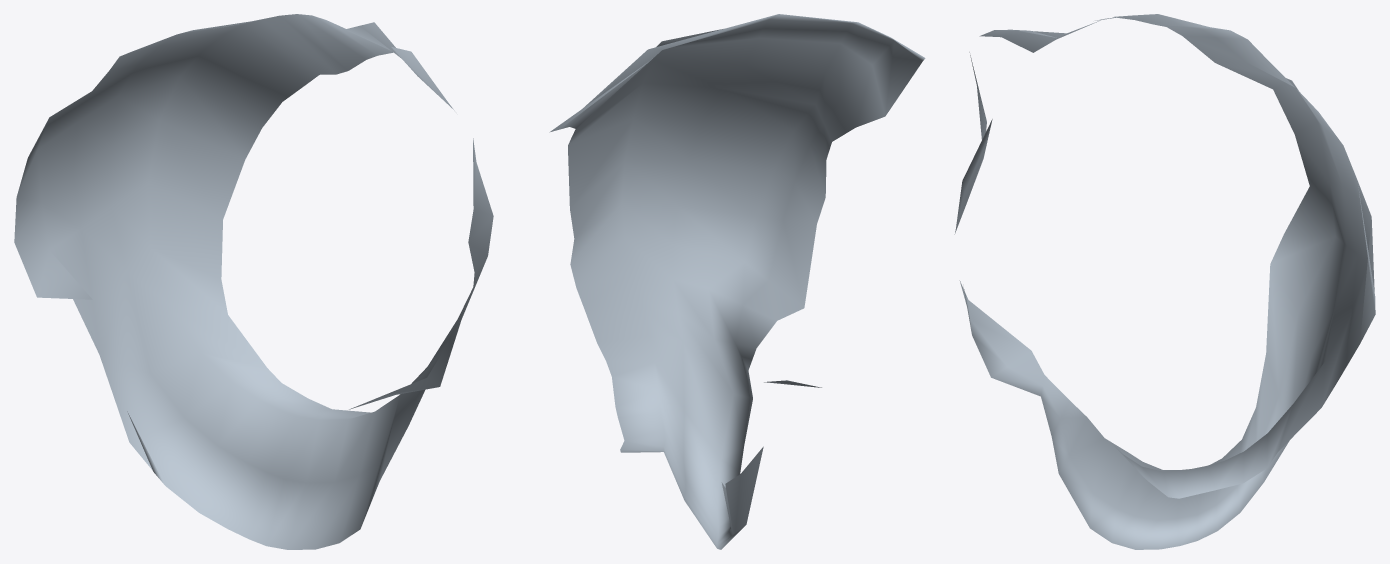
The model's file is articular-capsule-of-glenohumeral-joint-r.glb.
3 views of the same model, side by side, from view 1: azimuth 30°, elevation 25°; view 2: azimuth 150°, elevation 25°; view 3: azimuth 270°, elevation 25° (orthographic). The views are drawn at different scales.
Visible parts, largest first — view 1: Articular capsule of glenohumeral joint.r; view 2: Articular capsule of glenohumeral joint.r; view 3: Articular capsule of glenohumeral joint.r.
Boxes of the visible parts, bbox=[...] form: Articular capsule of glenohumeral joint.r: bbox=[14, 14, 493, 549]; Articular capsule of glenohumeral joint.r: bbox=[549, 14, 925, 549]; Articular capsule of glenohumeral joint.r: bbox=[954, 14, 1375, 549].
Bounding box in the file's own units: 0.0473 × 0.0606 × 0.0466.
